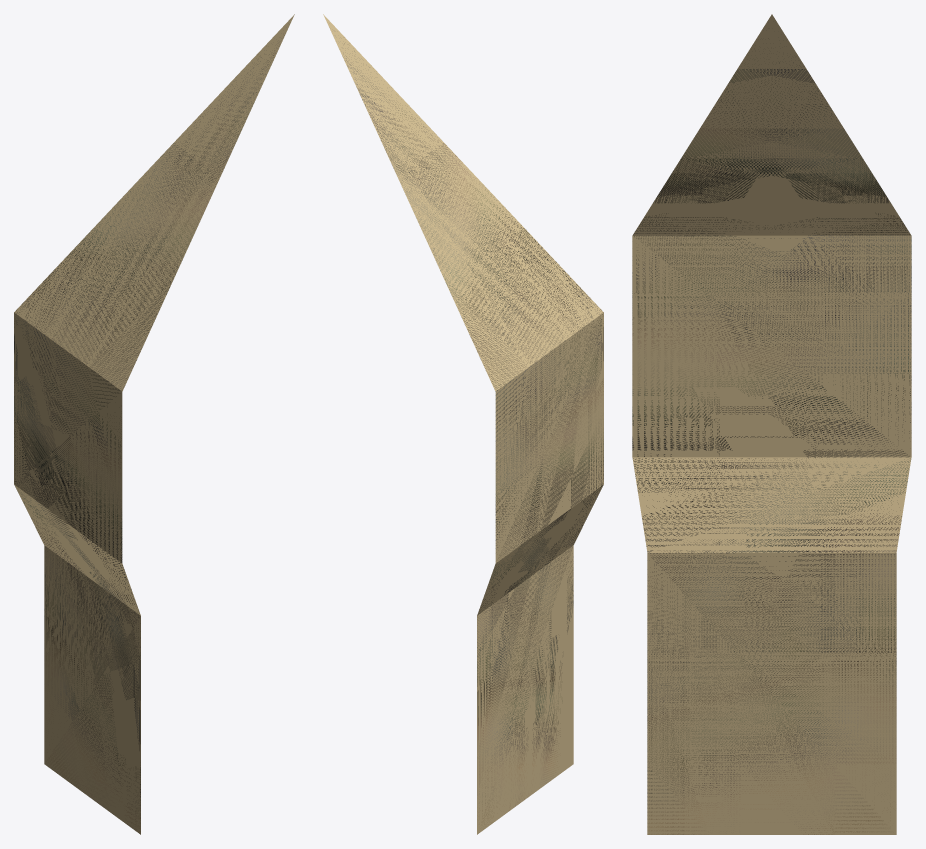
Rendered from 埃菲尔铁塔72.dae.
3 renders of one model, left to right at view 1: azimuth 30°, elevation 25°; view 2: azimuth 150°, elevation 25°; view 3: azimuth 270°, elevation 25°, orthographic. The views are drawn at different scales.
Visible parts, largest first — view 1: SketchUp; view 2: SketchUp; view 3: SketchUp.
Boxes of the visible parts, x1,y1,x2,y2 form: SketchUp: (14, 14, 294, 834); SketchUp: (323, 14, 603, 834); SketchUp: (632, 14, 911, 834).
Bounding box in the file's own units: 209 × 173 × 649.
2 materials, 1 textured.
